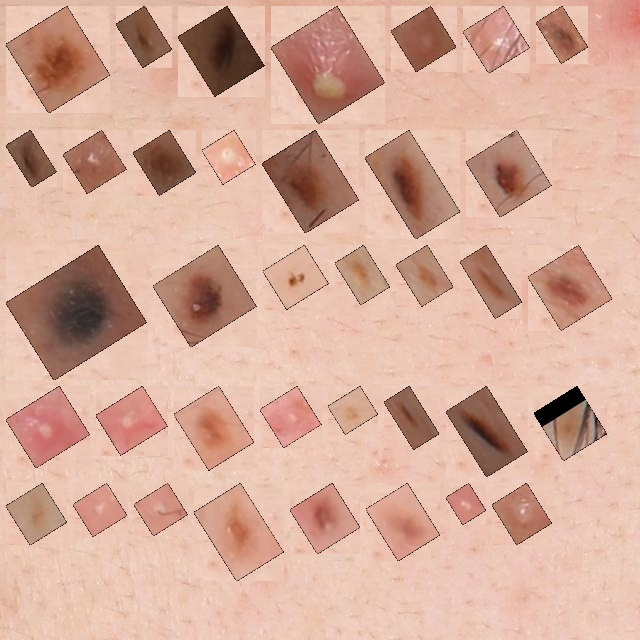melasma: (17, 494, 56, 534), (339, 397, 367, 423)
nevus: (17, 256, 136, 369), (17, 17, 99, 102), (164, 256, 245, 336), (376, 141, 449, 228), (273, 141, 348, 222), (205, 494, 273, 570), (189, 17, 253, 85), (477, 141, 540, 206), (457, 397, 516, 466), (539, 256, 601, 319), (185, 397, 243, 459), (377, 494, 429, 550), (301, 494, 349, 543), (471, 256, 511, 307), (274, 256, 317, 298), (144, 141, 185, 184), (395, 397, 428, 438), (127, 17, 161, 56), (547, 17, 577, 52), (17, 141, 46, 176)
pustule: (282, 17, 374, 113), (17, 397, 79, 457), (107, 397, 157, 444), (474, 17, 519, 62), (402, 17, 445, 61), (74, 141, 115, 182), (271, 397, 310, 436), (503, 494, 541, 534), (213, 141, 244, 173), (84, 494, 116, 525), (145, 494, 177, 525), (457, 494, 475, 513)
